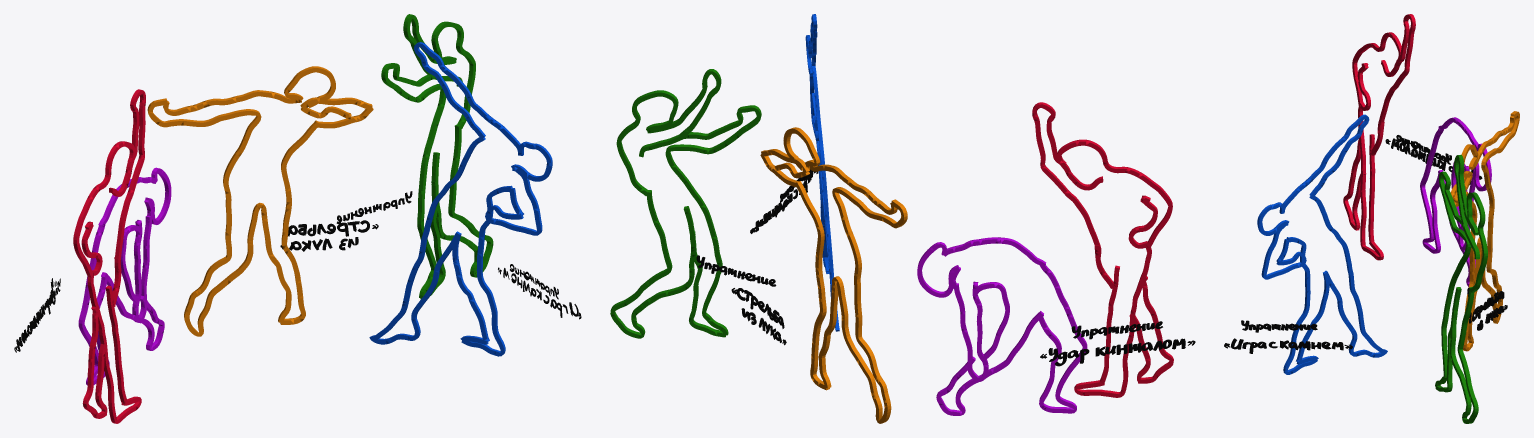
3 views of the same model, side by side, from view 1: azimuth 30°, elevation 25°; view 2: azimuth 150°, elevation 25°; view 3: azimuth 270°, elevation 25° (orthographic). The views are drawn at different scales.
Visible parts, largest first — view 1: brush_Flat_g4_b0, brush_Flat_g0_b0, brush_Flat_g2_b0, brush_Flat_g1_b0, brush_Flat_g3_b0, brush_Flat_g9_b0; view 2: brush_Flat_g4_b0, brush_Flat_g1_b0, brush_Flat_g2_b0, brush_Flat_g3_b0, brush_Flat_g9_b0, brush_Flat_g0_b0; view 3: brush_Flat_g0_b0, brush_Flat_g1_b0, brush_Flat_g2_b0, brush_Flat_g4_b0, brush_Flat_g9_b0, brush_Flat_g3_b0.
Part boxes in pixels (box(x1,y1,x2,y2)): brush_Flat_g4_b0: box(147, 66, 373, 336); brush_Flat_g0_b0: box(369, 42, 552, 356); brush_Flat_g2_b0: box(73, 89, 145, 423); brush_Flat_g1_b0: box(381, 14, 493, 299); brush_Flat_g3_b0: box(78, 167, 171, 385); brush_Flat_g9_b0: box(14, 191, 581, 352); brush_Flat_g4_b0: box(760, 127, 907, 423); brush_Flat_g1_b0: box(610, 69, 761, 338); brush_Flat_g2_b0: box(1032, 102, 1173, 397); brush_Flat_g3_b0: box(917, 237, 1087, 415); brush_Flat_g9_b0: box(696, 165, 1195, 366); brush_Flat_g0_b0: box(805, 14, 839, 331); brush_Flat_g0_b0: box(1257, 114, 1387, 374); brush_Flat_g1_b0: box(1435, 154, 1487, 423); brush_Flat_g2_b0: box(1343, 14, 1415, 260); brush_Flat_g4_b0: box(1450, 111, 1519, 351); brush_Flat_g9_b0: box(1224, 135, 1507, 353); brush_Flat_g3_b0: box(1420, 117, 1491, 286).
Size of the model in its own units: 1.55 by 0.88 by 0.8825.
